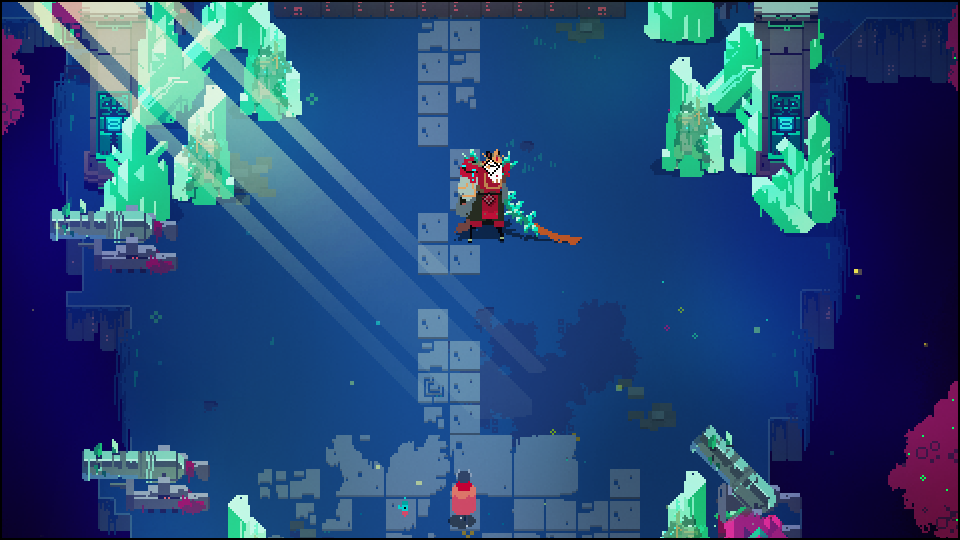hanged_man: (453, 144, 549, 251)
player: (449, 455, 480, 525)
